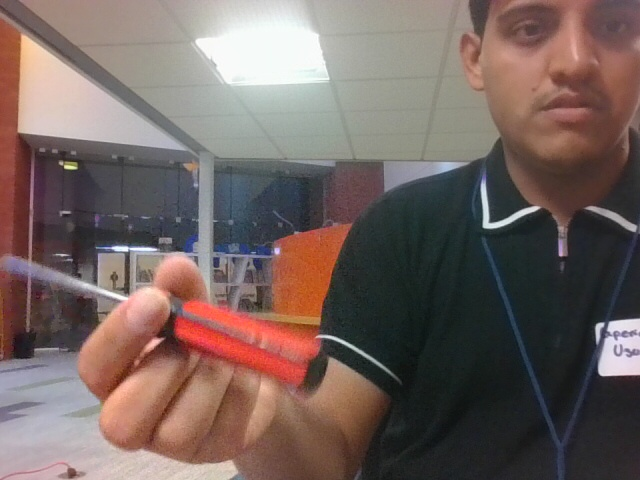destornillador: (2, 252, 325, 390)
